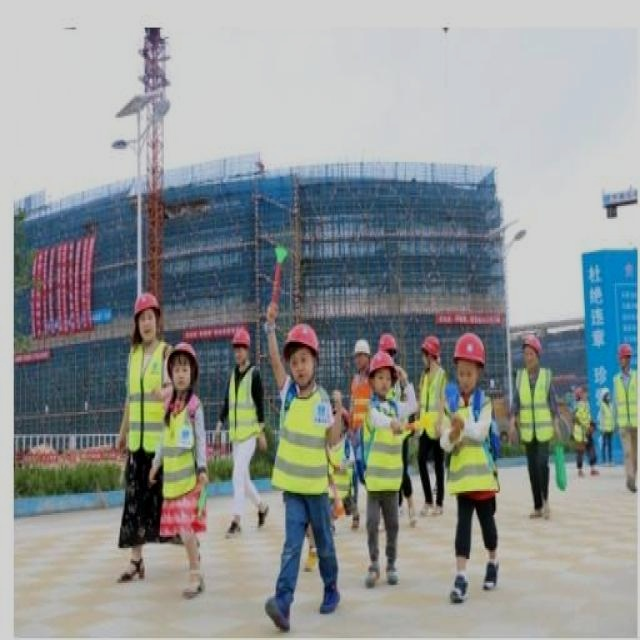Con_Chaleco: (272, 379, 332, 489), (447, 392, 502, 492), (365, 397, 411, 493)
